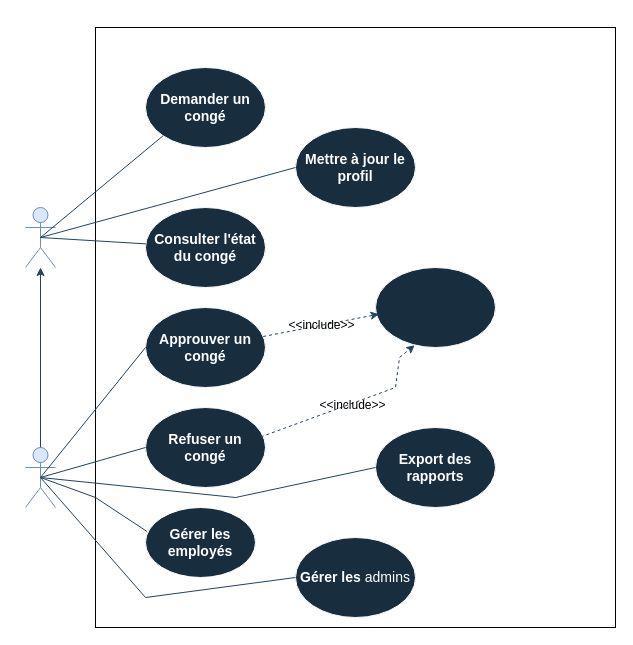
Image size: 633x645. Some labels were removed from this diagram. The centre of each missing label's shape, as x and y in pixels:
"Employé" goes at (x=40, y=237).
"Manager" goes at (x=40, y=477).
"Recevoir notification" goes at (x=435, y=307).
